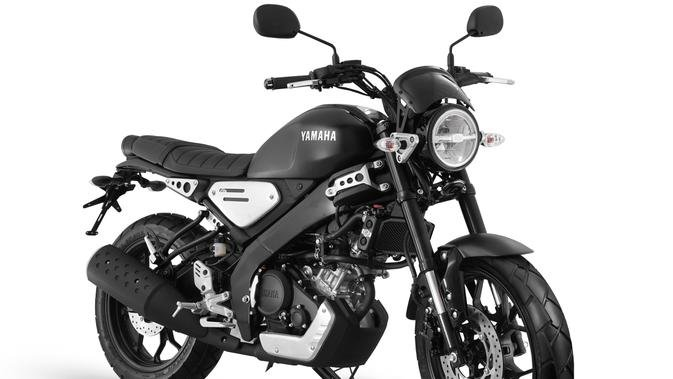motor: (65, 58, 580, 379)
